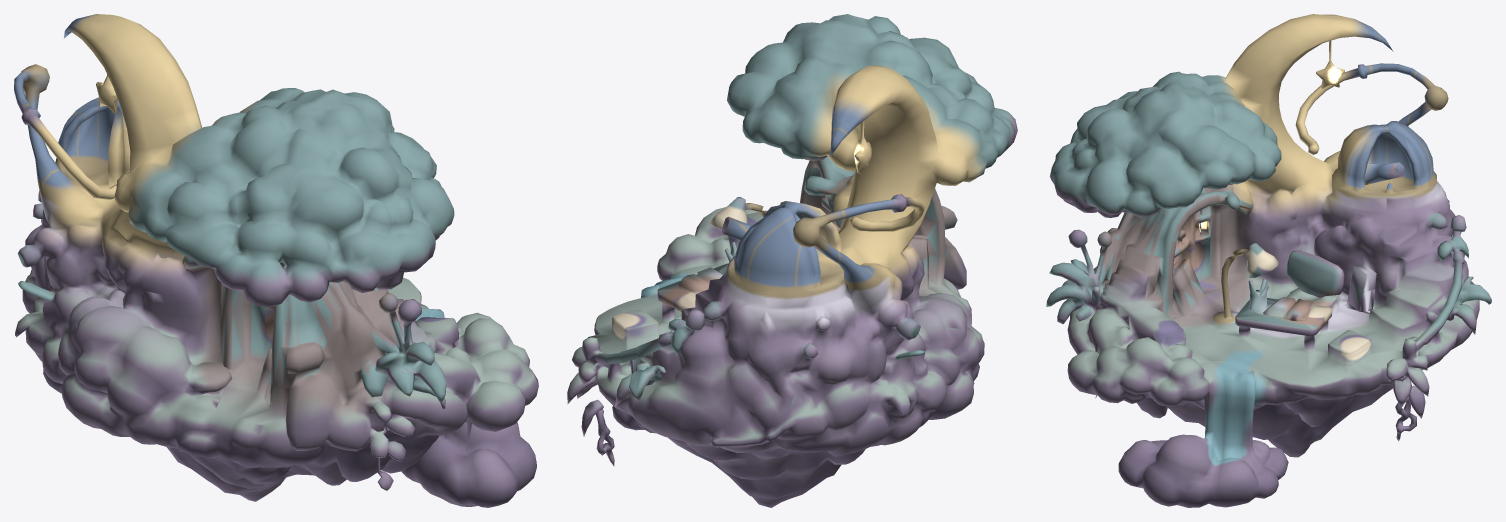
File: moon.glb
3 views of the same model, side by side, from view 1: azimuth 30°, elevation 25°; view 2: azimuth 150°, elevation 25°; view 3: azimuth 270°, elevation 25° (orthographic). The views are drawn at different scales.
Parts seen in each view (by area): view 1: UserWorld_moon; view 2: UserWorld_moon; view 3: UserWorld_moon.
Boxes of the visible parts, x1,y1,x2,y2 form: UserWorld_moon: (14,14,538,507); UserWorld_moon: (567,14,1017,507); UserWorld_moon: (1046,14,1491,507).
Size of the model in its own units: 8.99 by 10.6 by 10.87.
Materials: 1 (1 with a texture image).
